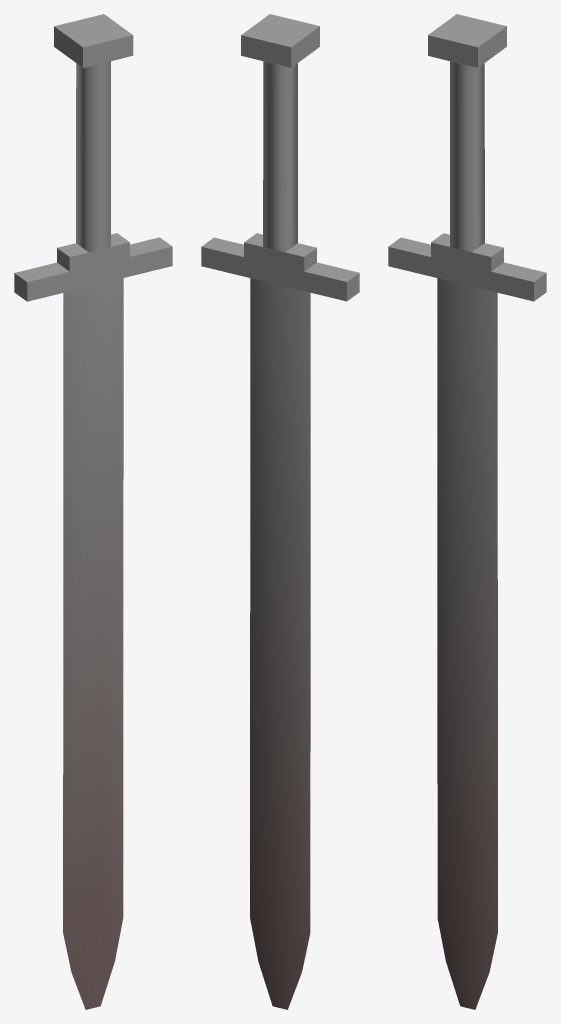
The picture shows the model from 3 angles, left to right: view 1: azimuth 30°, elevation 25°; view 2: azimuth 150°, elevation 25°; view 3: azimuth 330°, elevation 25°; orthographic projection.
Parts seen in each view (by area): view 1: G:\FFXIV-MapTools\exports\r2f1\bg\ex1\01_roc_r2\fld\r2f1\bgp; view 2: G:\FFXIV-MapTools\exports\r2f1\bg\ex1\01_roc_r2\fld\r2f1\bgp; view 3: G:\FFXIV-MapTools\exports\r2f1\bg\ex1\01_roc_r2\fld\r2f1\bgp.
Part boxes in pixels (x1=…): G:\FFXIV-MapTools\exports\r2f1\bg\ex1\01_roc_r2\fld\r2f1\bgp: x1=14, y1=14, x2=172, y2=1009; G:\FFXIV-MapTools\exports\r2f1\bg\ex1\01_roc_r2\fld\r2f1\bgp: x1=201, y1=14, x2=359, y2=1009; G:\FFXIV-MapTools\exports\r2f1\bg\ex1\01_roc_r2\fld\r2f1\bgp: x1=388, y1=14, x2=546, y2=1009.
Size of the model in its own units: 0.2027 by 1.3 by 0.07.
